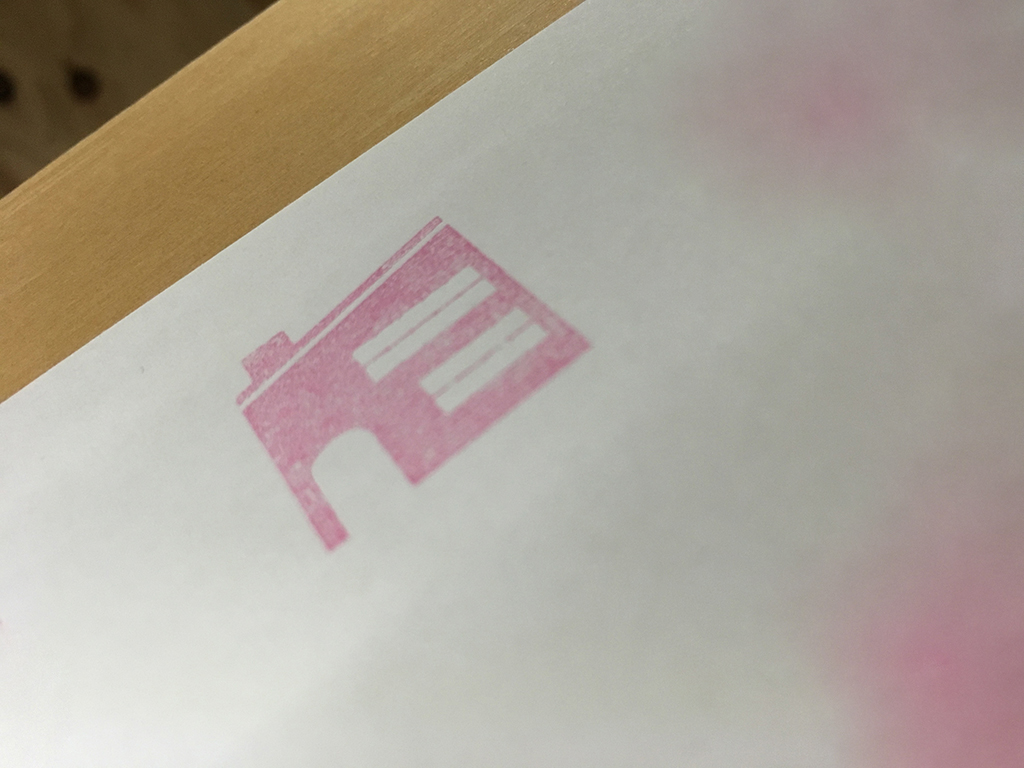house: (218, 202, 625, 569)
